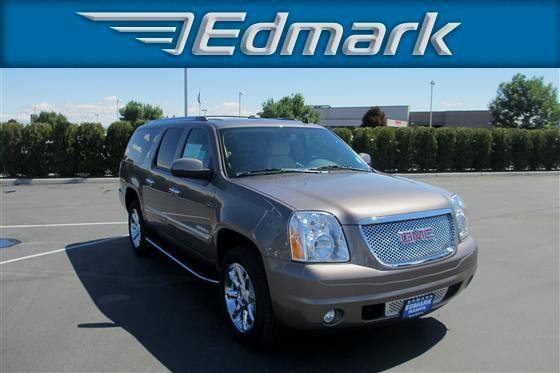GMC: (396, 226, 442, 244)
